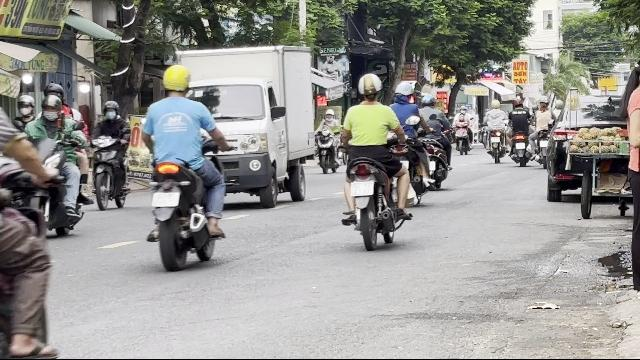helmet: (160, 64, 192, 96), (356, 74, 382, 102), (40, 95, 62, 125), (394, 80, 416, 102), (16, 94, 34, 118), (41, 82, 63, 98), (102, 100, 118, 120)
licenseplate: (153, 193, 180, 207), (351, 182, 374, 197)
motorcyclist: (138, 62, 230, 270), (336, 72, 414, 248), (20, 80, 90, 238), (86, 99, 132, 209)
